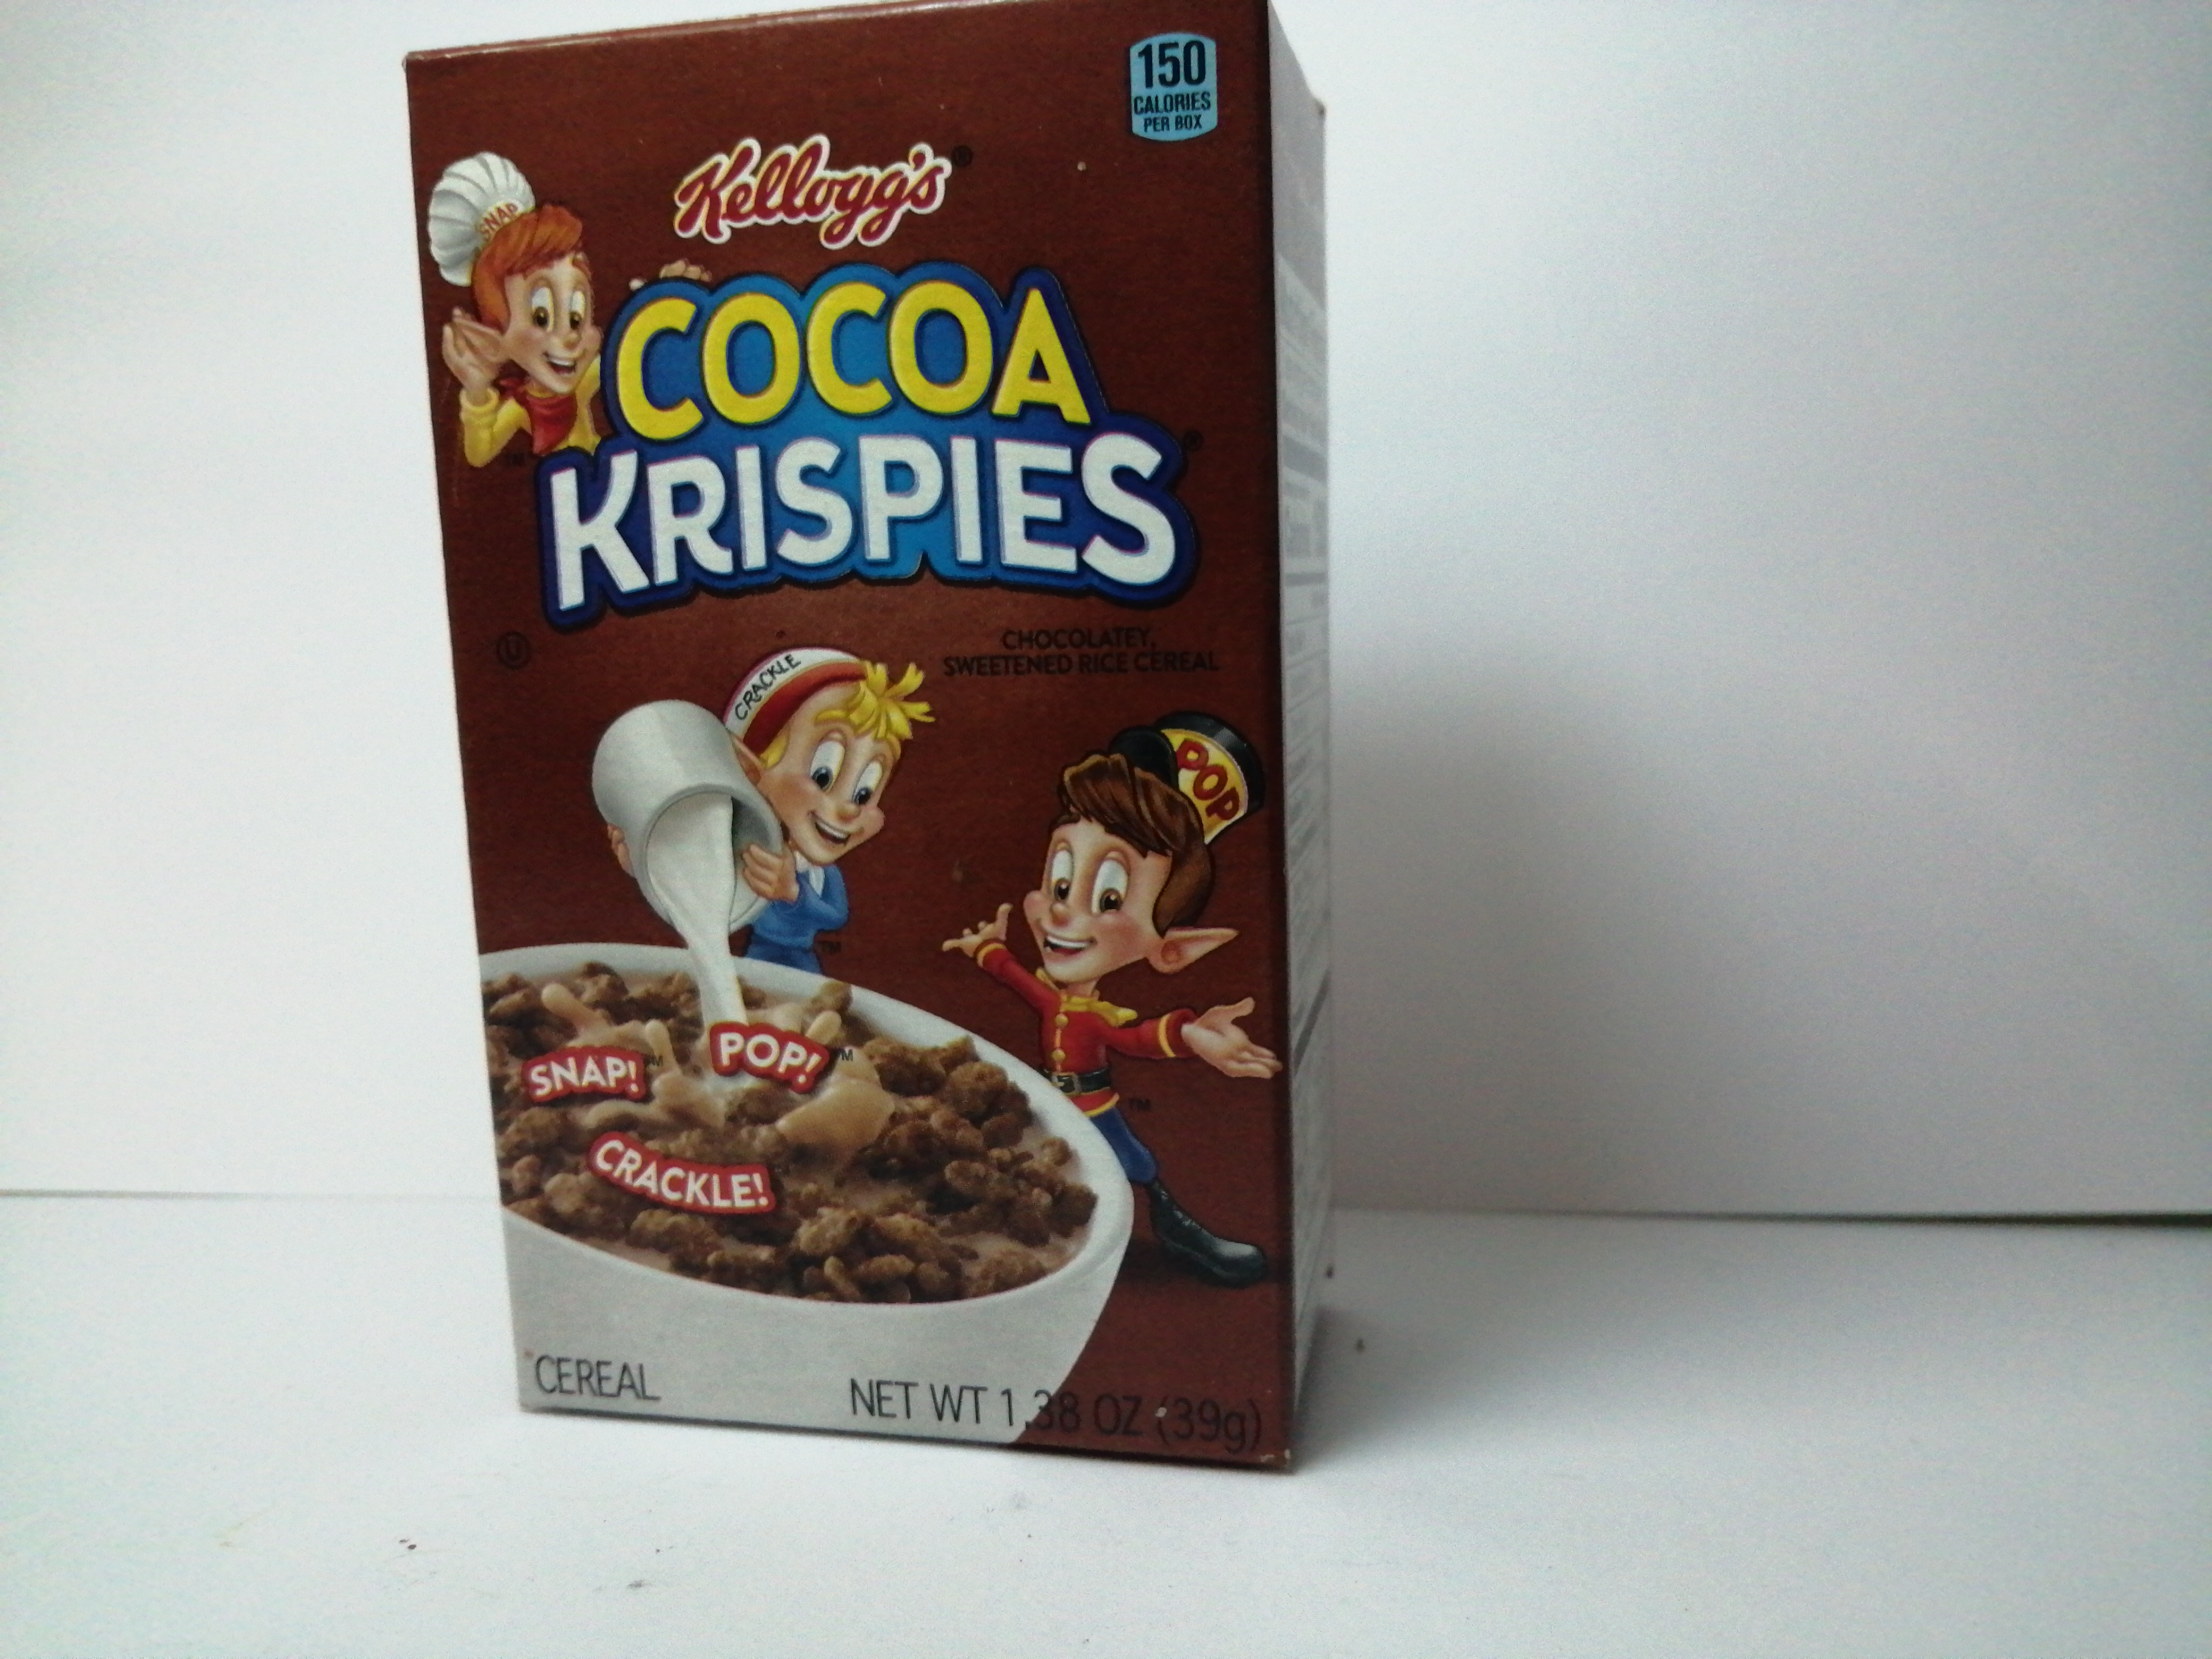cereal chocolate: (381, 2, 1385, 1478)
